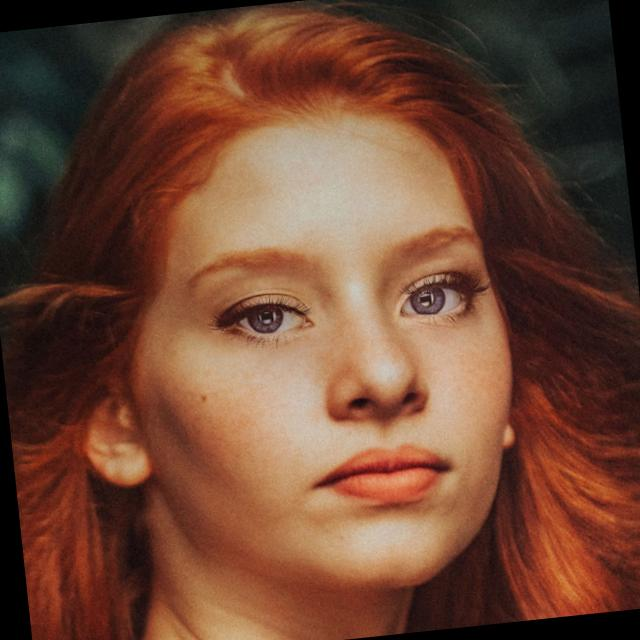face: (33, 49, 576, 640)
